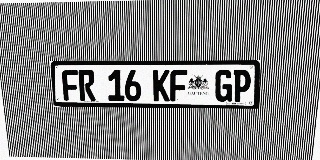1: (107, 70, 125, 101)
6: (124, 70, 141, 101)
F: (170, 70, 187, 102), (62, 70, 79, 101)
G: (215, 70, 233, 102)
K: (153, 70, 170, 101)
P: (232, 70, 251, 102)
R: (78, 70, 96, 101)
